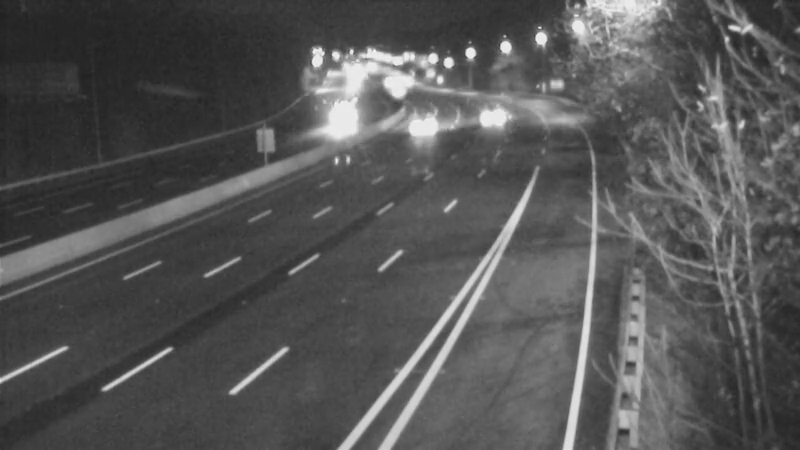vehicle: (372, 66, 422, 116), (464, 86, 514, 136), (393, 103, 443, 153), (310, 103, 360, 153)
